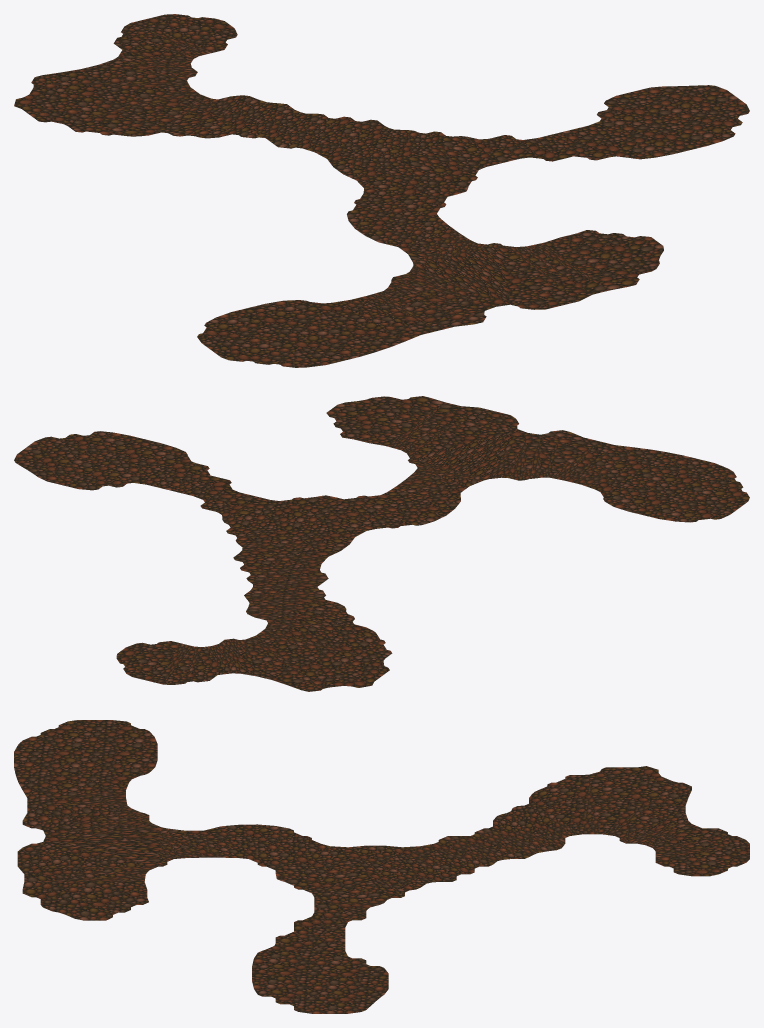
The model's file is WaterFloorMesh.obj.
3 views of the same model, one above another, from view 1: azimuth 30°, elevation 25°; view 2: azimuth 150°, elevation 25°; view 3: azimuth 270°, elevation 25° (orthographic). The views are drawn at different scales.
Visible parts, largest first — view 1: polySurface249 pCube44; view 2: polySurface249 pCube44; view 3: polySurface249 pCube44.
Boxes of the visible parts, box(x1,y1,x2,y2) form: polySurface249 pCube44: box(14, 14, 749, 367); polySurface249 pCube44: box(14, 396, 749, 691); polySurface249 pCube44: box(14, 720, 749, 1013).
Bounding box in the file's own units: 231 × 9.54e-07 × 244.
